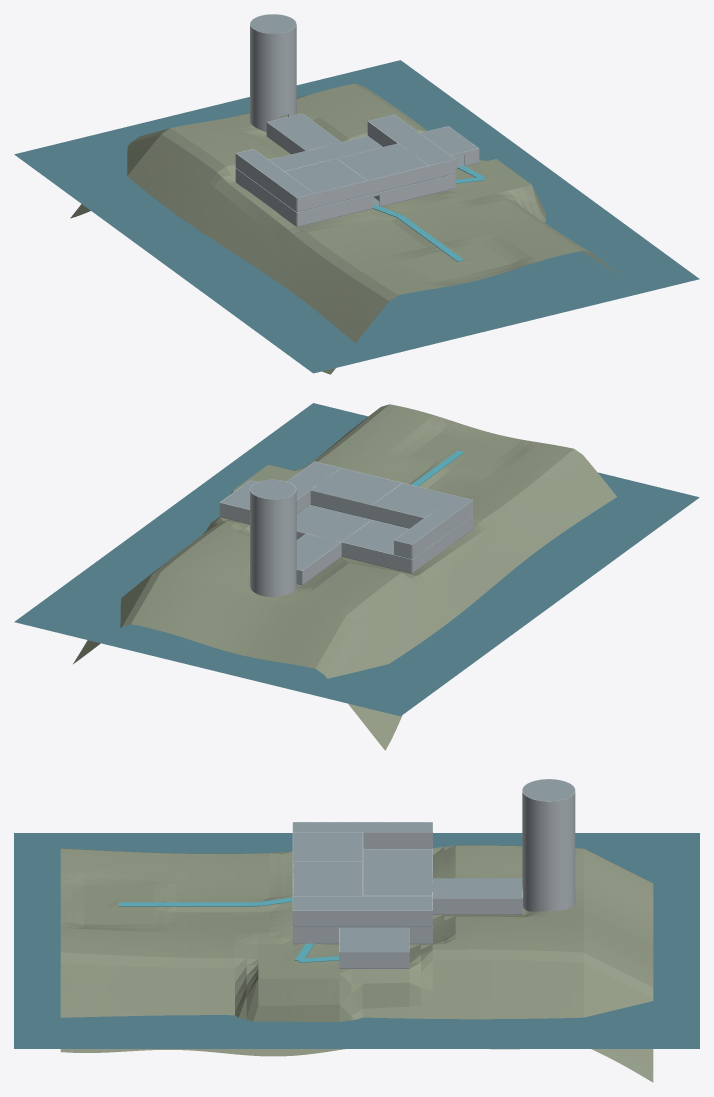
Rendered from rough-shell.glb.
3 views of the same model, one above another, from view 1: azimuth 30°, elevation 25°; view 2: azimuth 150°, elevation 25°; view 3: azimuth 270°, elevation 25° (orthographic). The views are drawn at different scales.
Parts seen in each view (by area): view 1: WATER PLACEHOLDER / layers and transparency pending, Authored headland terrain, Ceiling cap upperhall, Ceiling cap bed, Ceiling cap service-upper, Ceiling cap study.026, Wall service-upper W, Wall service-stair W, Wall study S, Round shell tower5, Round shell tower1, Round shell tower3 (+5 smaller); view 2: Authored headland terrain, WATER PLACEHOLDER / layers and transparency pending, Ceiling cap bed, Ceiling cap service-upper, Ceiling cap study.026, Wall service-upper W, Wall study N, Wall service-stair W, Ceiling cap upperhall, Round shell tower5, Round shell tower4, Round shell tower3 (+9 smaller); view 3: Authored headland terrain, WATER PLACEHOLDER / layers and transparency pending, Wall upperhall E, Ceiling cap bed, Ceiling cap upperhall, Wall passage E, Ceiling cap service-upper, Ceiling cap study.026, Wall generator E, Wall stairs E, Round shell tower5, Wall service-upper E (+9 smaller).
Boxes of the visible parts, x1,y1,x2,y2 form: WATER PLACEHOLDER / layers and transparency pending: (14,60,699,373); Authored headland terrain: (70,83,621,374); Ceiling cap upperhall: (368,115,454,165); Ceiling cap bed: (285,158,366,193); Ceiling cap service-upper: (237,149,313,197); Ceiling cap study.026: (367,143,427,173); Wall service-upper W: (235,153,296,211); Wall service-stair W: (235,168,296,226); Wall study S: (367,165,428,194); Round shell tower5: (250,14,296,50); Round shell tower1: (250,90,296,116); Round shell tower3: (250,57,296,83); Authored headland terrain: (73,404,616,750); WATER PLACEHOLDER / layers and transparency pending: (14,403,699,716); Ceiling cap bed: (372,483,454,517); Ceiling cap service-upper: (395,496,472,544); Ceiling cap study.026: (311,468,371,497); Wall service-upper W: (412,500,472,558); Wall study N: (310,490,371,518); Wall service-stair W: (412,515,472,572); Ceiling cap upperhall: (287,461,339,499); Round shell tower5: (250,479,296,515); Round shell tower4: (250,506,296,532); Round shell tower3: (250,523,296,548); Authored headland terrain: (60,845,653,1082); WATER PLACEHOLDER / layers and transparency pending: (14,833,699,1048); Wall upperhall E: (293,910,432,926); Ceiling cap bed: (293,832,362,861); Ceiling cap upperhall: (293,896,432,910); Wall passage E: (433,898,522,913); Ceiling cap service-upper: (293,822,432,831); Ceiling cap study.026: (293,878,362,895); Wall generator E: (339,952,409,968); Wall stairs E: (293,927,432,943); Round shell tower5: (522,779,575,820); Wall service-upper E: (359,832,432,847).
Size of the model in its own units: 88 by 41.23 by 118.
